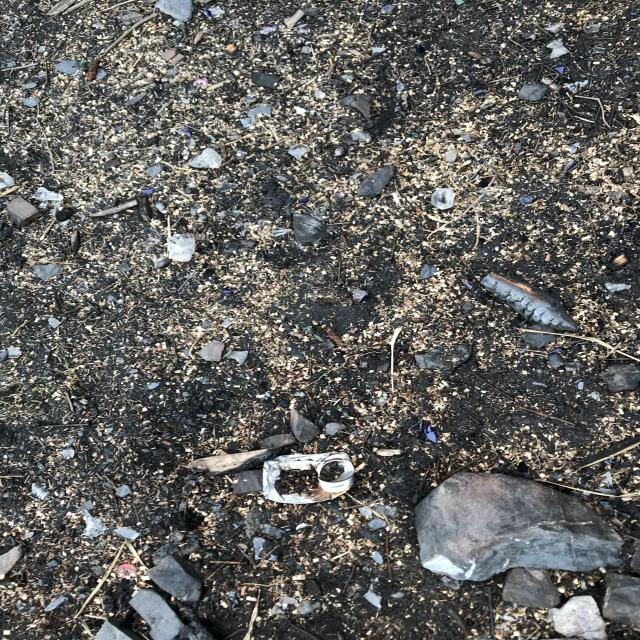litter: (595, 212, 640, 284)
